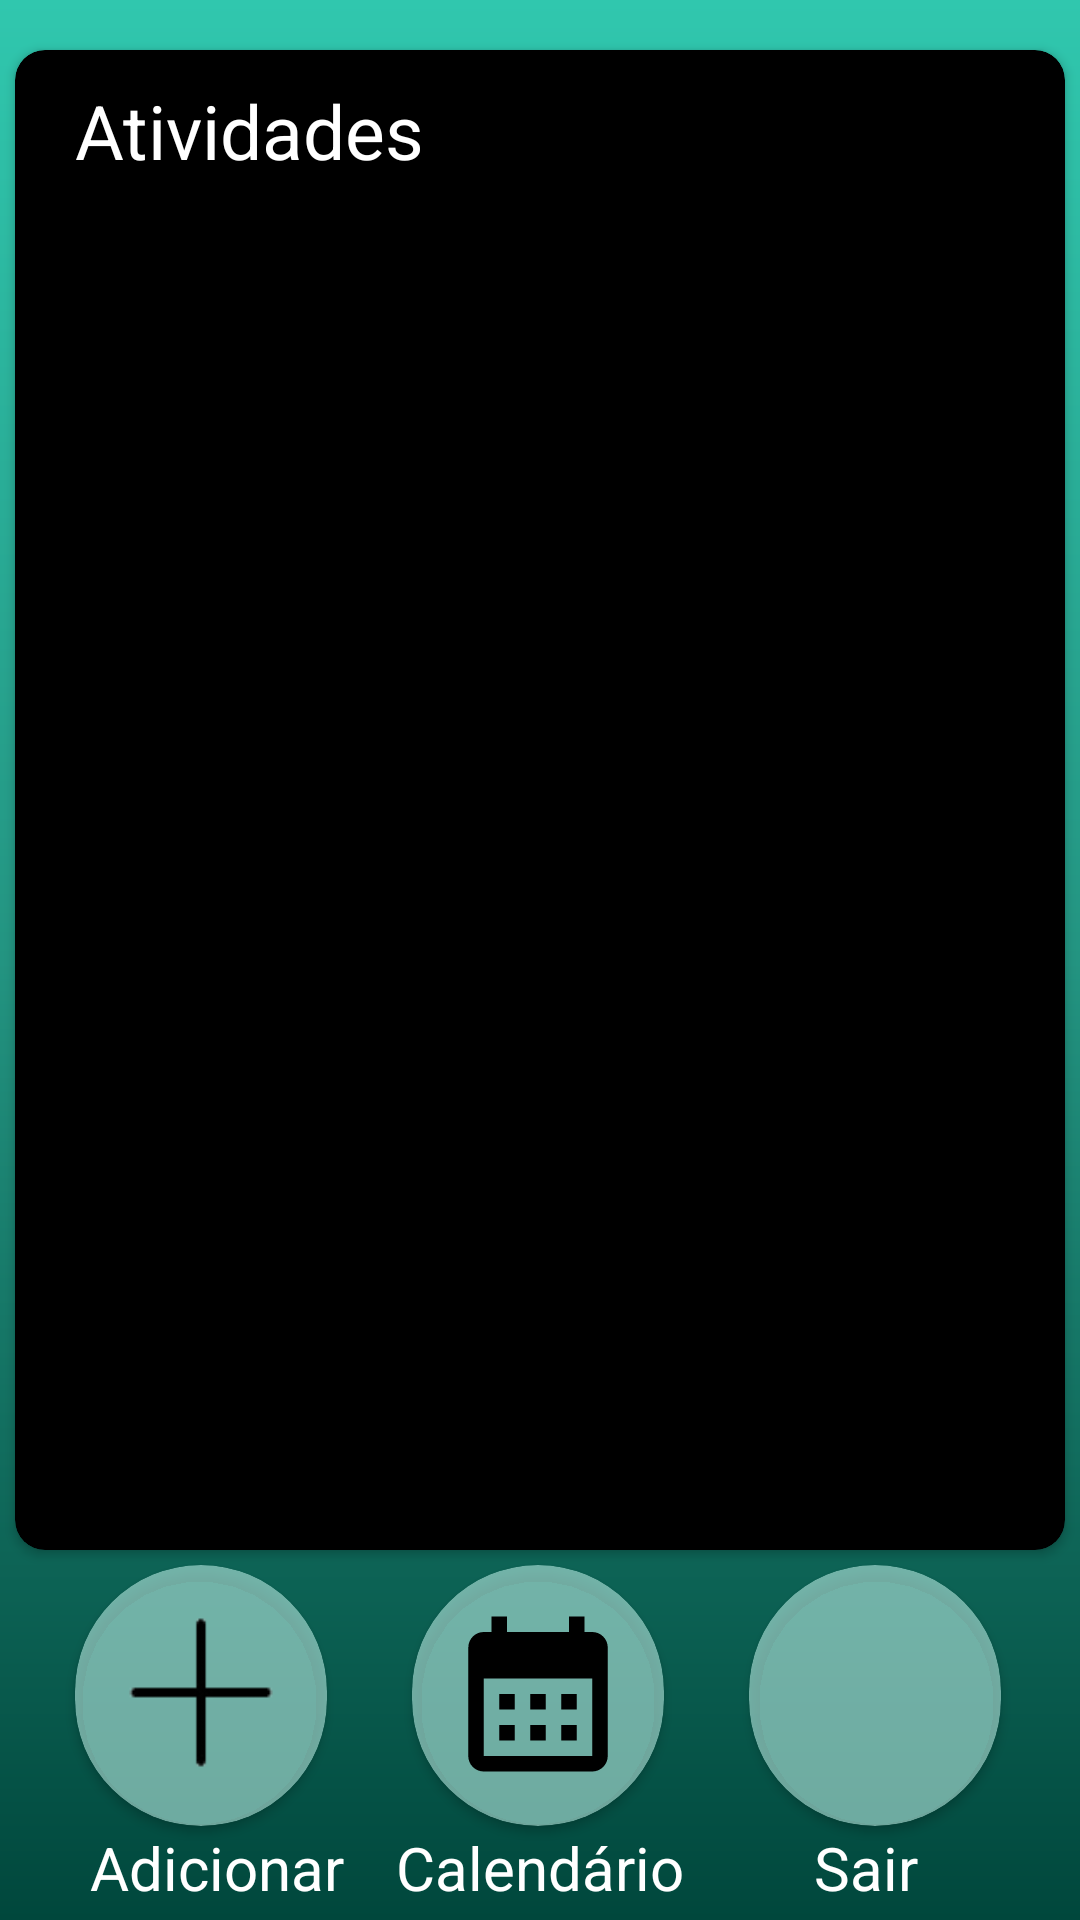

Icon click points for this 1080×1920 phone screenshot, format point (x, y):
calender: point (538, 1694)
